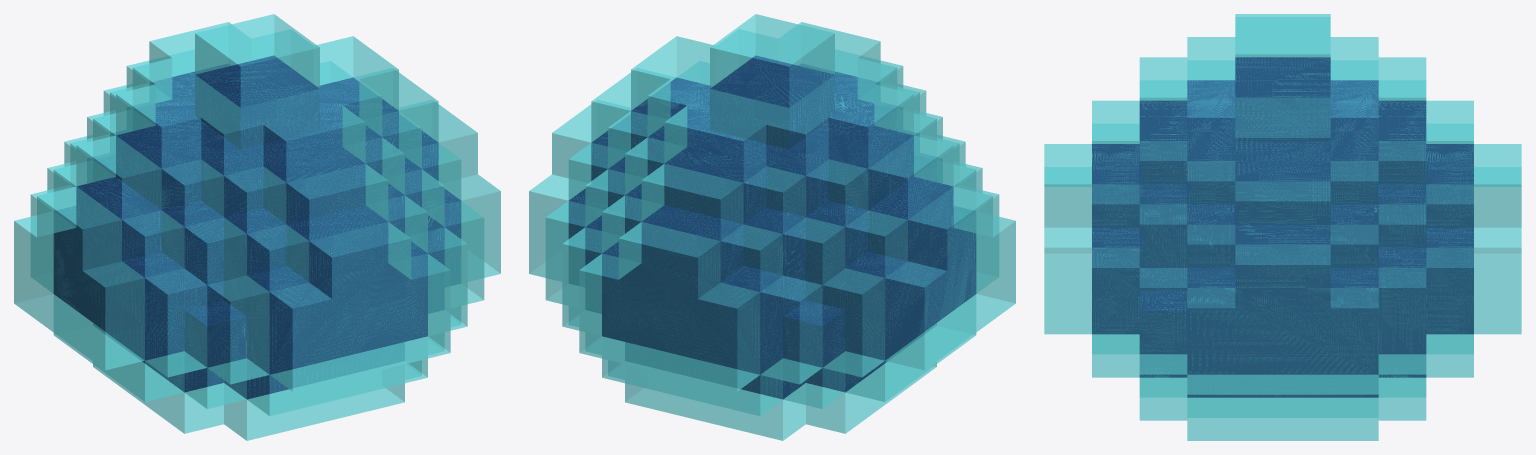
Rendered from slime4.glb.
The picture shows the model from 3 angles, left to right: view 1: azimuth 30°, elevation 25°; view 2: azimuth 150°, elevation 25°; view 3: azimuth 270°, elevation 25°; orthographic projection. The views are drawn at different scales.
Visible parts, largest first — view 1: Untitled.001, Untitled; view 2: Untitled.001, Untitled; view 3: Untitled.001, Untitled.
Part boxes in pixels (x1,y1,x2,y2): Untitled.001: (14,14,500,440); Untitled: (53,55,461,399); Untitled.001: (529,14,1015,440); Untitled: (568,55,976,399); Untitled.001: (1044,14,1521,440); Untitled: (1092,57,1473,397).
Size of the model in its own units: 1 by 0.8 by 1.
